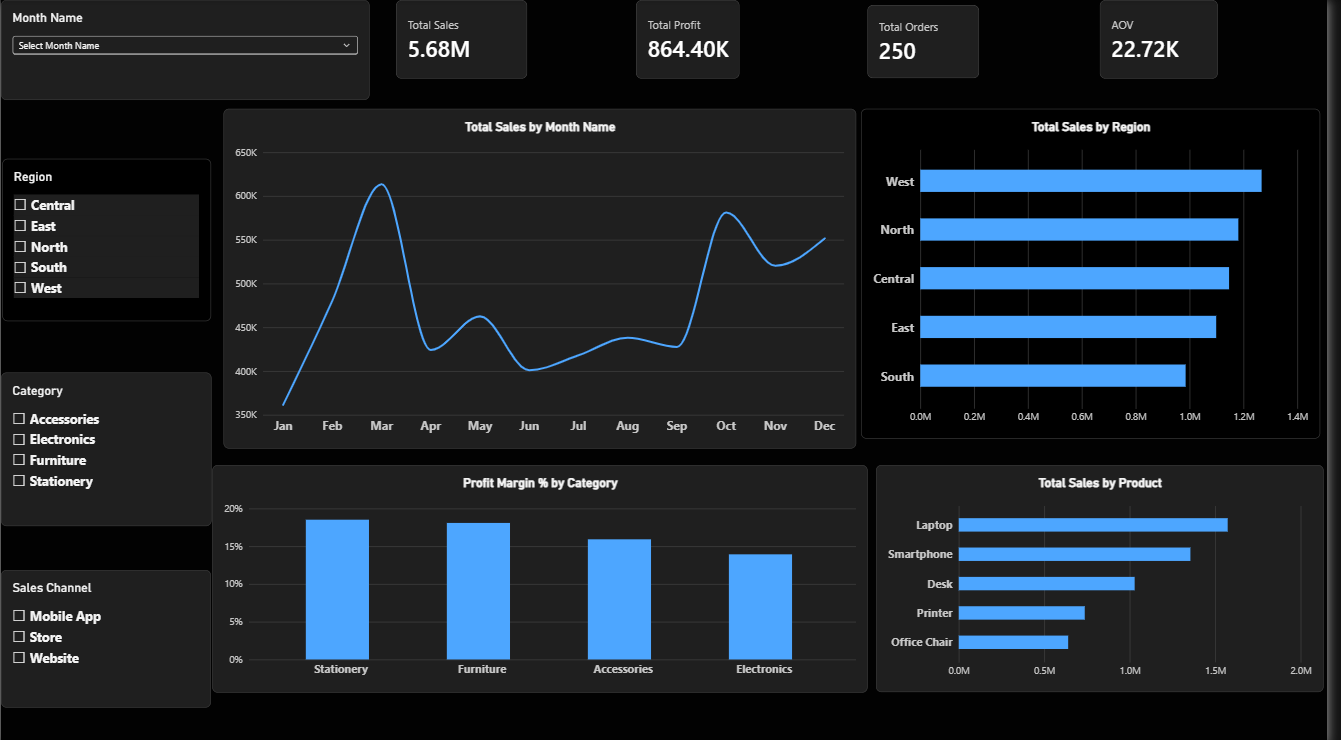

Layout of this report page (visuals, bound fields, positions):
{"tool":"powerbi","page":{"name":"Page 1","canvas":[1920,1080],"ordinal":0},"visuals":[{"type":"cardVisual","fields":{"Data":["Sales_Data.AOV"]},"box":[1590.7,0,171.9,114],"z":0},{"type":"cardVisual","fields":{"Data":["Sales_Data.Total Profit"]},"box":[919.3,0,150.2,114],"z":1000},{"type":"cardVisual","fields":{"Data":["Sales_Data.Total Orders"]},"box":[1254.1,7.2,162.9,106.8],"z":2000},{"type":"cardVisual","fields":{"Data":["Sales_Data.Total Sales"]},"box":[571.9,0,190,114],"z":3000},{"type":"lineChart","fields":{"Category":["DateTable.Month Name"],"Y":["Sales_Data.Total Sales"]},"box":[322.1,157.4,916,491.9],"z":4000},{"type":"columnChart","fields":{"Category":["Sales_Data.Category"],"Y":["Sales_Data.Profit Margin %"]},"box":[305.8,673.2,948.9,329.3],"z":5000},{"type":"barChart","title":"Total Sales by Region","fields":{"Category":["Sales_Data.Region"],"Y":["Sales_Data.Total Sales"]},"box":[1245,157.4,664.8,477.5],"z":6000},{"type":"barChart","fields":{"Category":["Sales_Data.Product"],"Y":["Sales_Data.Total Sales"]},"box":[1266.8,673.2,648,329],"z":7000},{"type":"listSlicer","fields":{"Values":["DateTable.Month Name"]},"box":[0,0,533.8,144.8],"z":7001},{"type":"listSlicer","fields":{"Values":["Sales_Data.Region"]},"box":[1.8,229.8,302.2,235.3],"z":7002},{"type":"listSlicer","fields":{"Values":["Sales_Data.Category"]},"box":[0,539.3,305,222],"z":7003},{"type":"listSlicer","fields":{"Values":["Sales_Data.Sales_Channel"]},"box":[0,825.2,304,199.1],"z":7004}]}

Visuals, with their boxes in screenshot pixels (x1, y1, x2, y2), scaled from the page's 1920x1080 canvas onto the 1341x740 screenshot:
cardVisual - Sales_Data.AOV: 1111:0:1231:78
cardVisual - Sales_Data.Total Profit: 642:0:747:78
cardVisual - Sales_Data.Total Orders: 876:5:990:78
cardVisual - Sales_Data.Total Sales: 399:0:532:78
lineChart - DateTable.Month Name x Sales_Data.Total Sales: 225:108:865:445
columnChart - Sales_Data.Category x Sales_Data.Profit Margin %: 214:461:876:687
"Total Sales by Region" barChart: 870:108:1334:435
barChart - Sales_Data.Product x Sales_Data.Total Sales: 885:461:1337:687
listSlicer - DateTable.Month Name: 0:0:373:99
listSlicer - Sales_Data.Region: 1:157:212:319
listSlicer - Sales_Data.Category: 0:370:213:522
listSlicer - Sales_Data.Sales_Channel: 0:565:212:702
